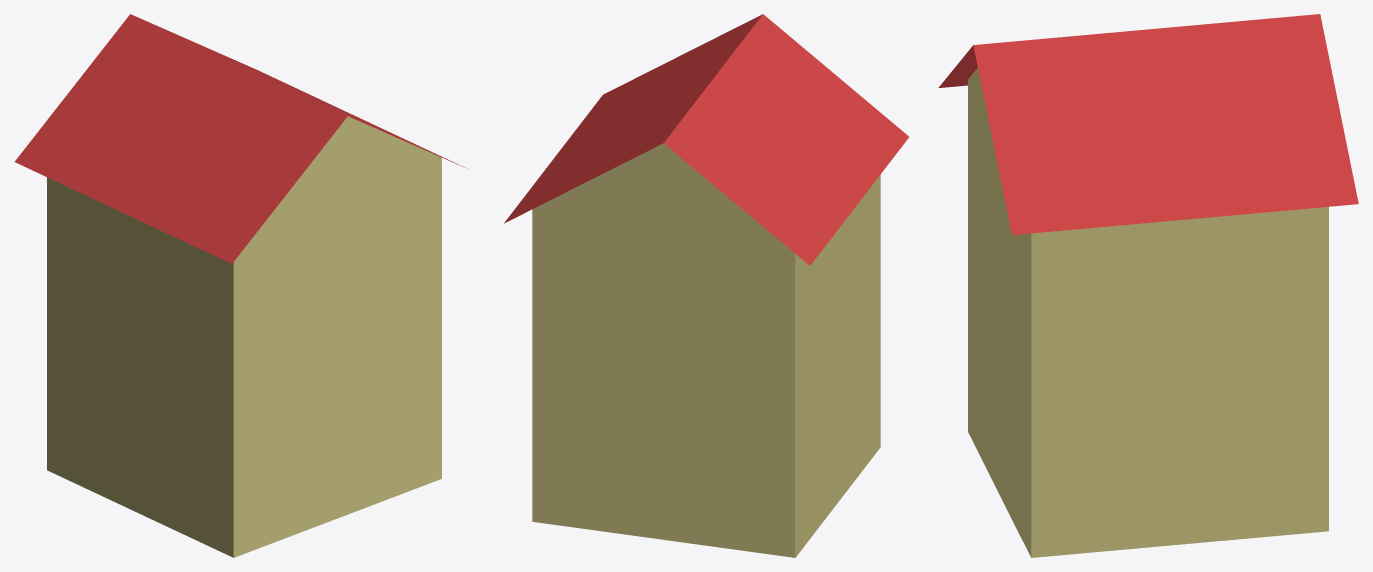
3 renders of one model, left to right at view 1: azimuth 30°, elevation 25°; view 2: azimuth 150°, elevation 25°; view 3: azimuth 270°, elevation 25°, orthographic. The views are drawn at different scales.
Size of the model in its own units: 8.39 by 8.37 by 9.85.
